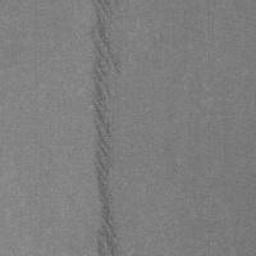Inclusion: (88, 0, 129, 256)
